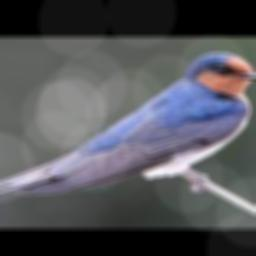Swallow: (0, 53, 256, 197)
